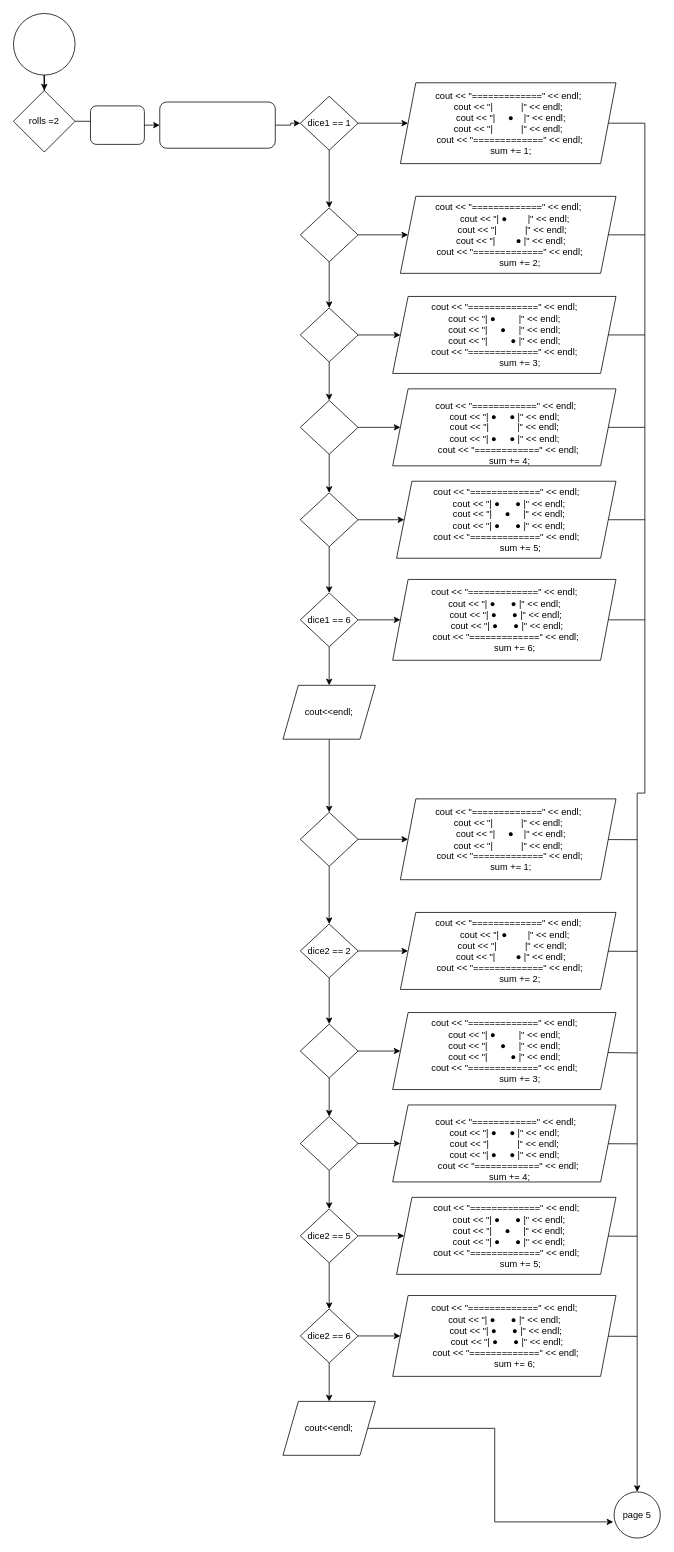
Some shapes in this 674 by 1552 pixel diagram are drawn without their labels. The box of each missing label's shape, as (x1, y1, x2, y2) in pixels:
dice1 = rand() % 6 + 1; dice2 = rand() % 6 + 1;: (159, 101, 275, 148)
dice1 == 2: (300, 207, 358, 262)
dice1 == 3: (300, 307, 358, 362)
dice1 == 4: (300, 400, 358, 454)
dice1 == 5: (300, 492, 358, 547)
dice2 == 3: (300, 1023, 358, 1078)
dice2 == 4: (300, 1116, 358, 1170)
dice2== 1: (300, 812, 358, 866)
page 4: (13, 13, 75, 75)
rolls-=2: (90, 105, 144, 144)
